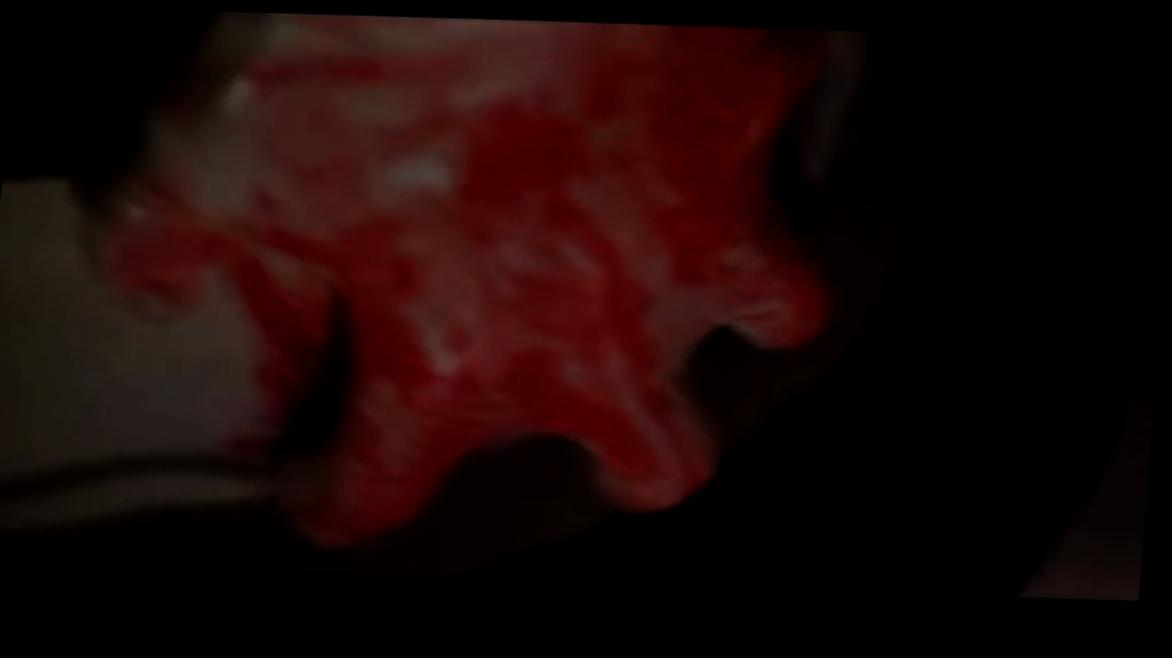Fire: (88, 19, 836, 551)
